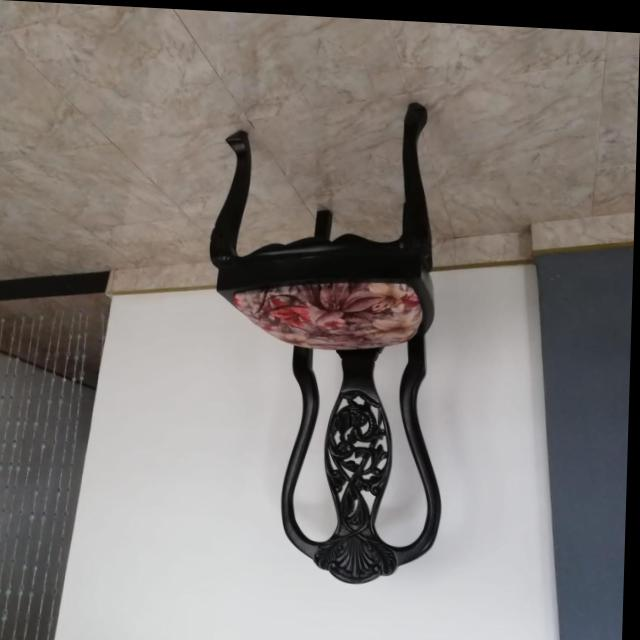Chair: (201, 87, 456, 586)
